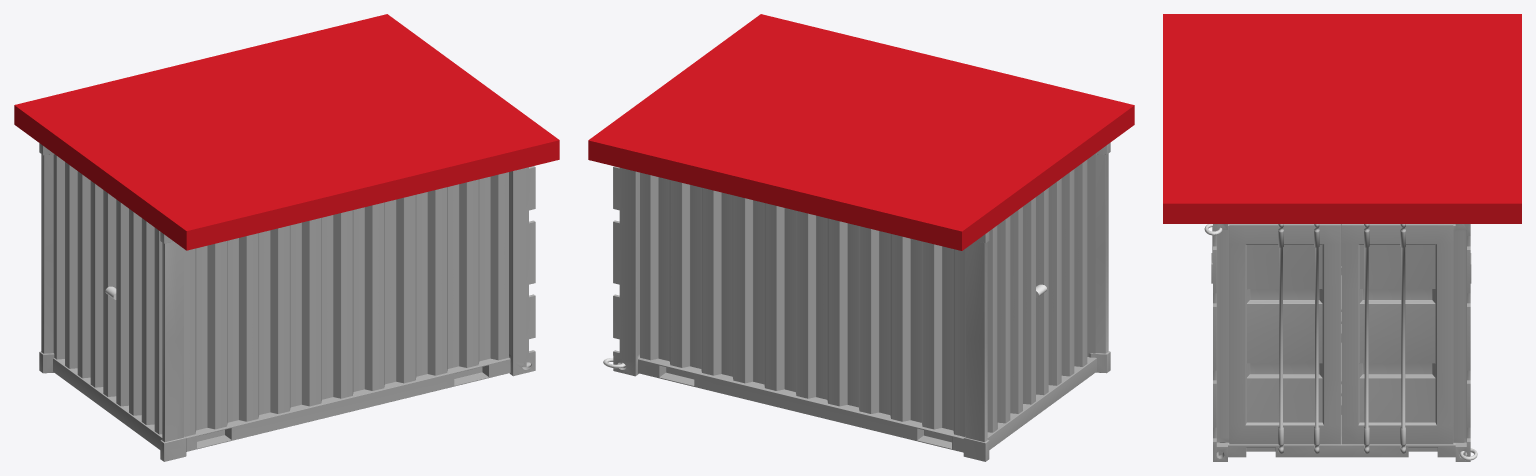
Rendered from Container.fbx.
3 renders of one model, left to right at view 1: azimuth 30°, elevation 25°; view 2: azimuth 150°, elevation 25°; view 3: azimuth 270°, elevation 25°, orthographic. The views are drawn at different scales.
Parts seen in each view (by area): view 1: Cube.079, Plane.046, Plane.047, Cube.073; view 2: Cube.079, Plane.046, Plane.047, Cube.073; view 3: Cube.079, Plane.048, Cube.073, Cylinder.236, Plane.046.
Part boxes in pixels (bbox=[...]): Cube.079: bbox=[14, 14, 559, 250]; Plane.046: bbox=[53, 172, 526, 451]; Plane.047: bbox=[53, 154, 162, 434]; Cube.073: bbox=[39, 143, 535, 461]; Cube.079: bbox=[588, 14, 1134, 250]; Plane.046: bbox=[623, 172, 1096, 452]; Plane.047: bbox=[987, 154, 1095, 432]; Cube.073: bbox=[613, 142, 1110, 461]; Cube.079: bbox=[1163, 14, 1521, 223]; Plane.048: bbox=[1229, 224, 1453, 444]; Cube.073: bbox=[1211, 224, 1471, 461]; Cylinder.236: bbox=[1278, 224, 1405, 453]; Plane.046: bbox=[1218, 266, 1465, 457].
Size of the model in its own units: 577 by 358 by 450.
